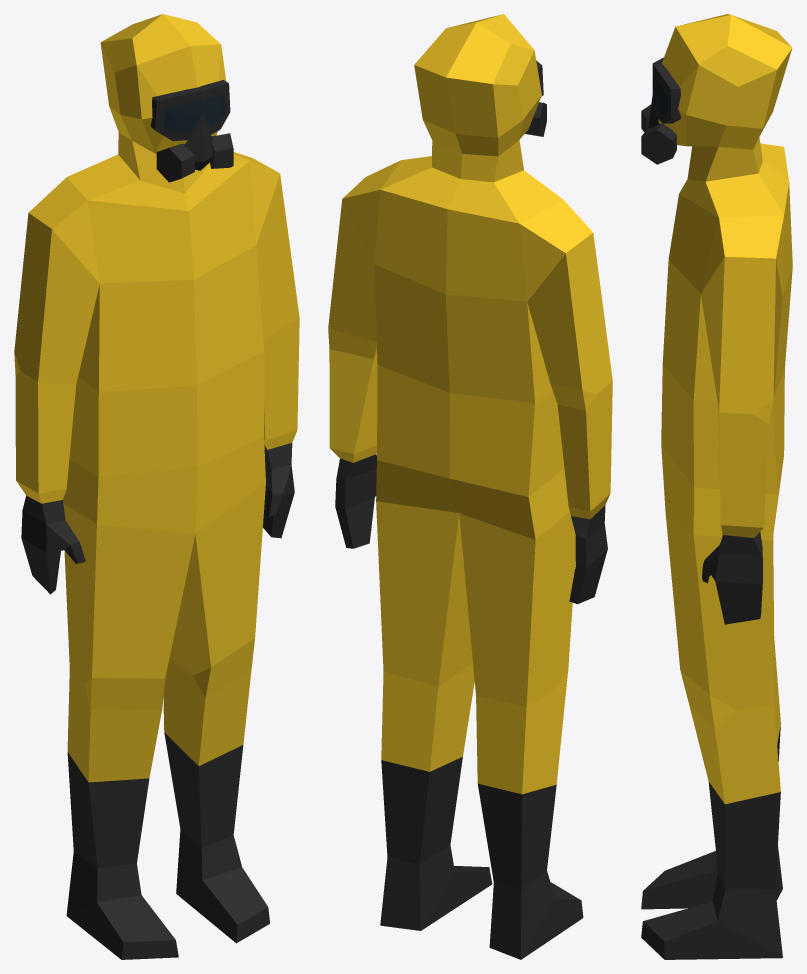
Rendered from man-hazard.glb.
3 renders of one model, left to right at view 1: azimuth 30°, elevation 25°; view 2: azimuth 150°, elevation 25°; view 3: azimuth 270°, elevation 25°, orthographic.
Visible parts, largest first — view 1: man-hazard; view 2: man-hazard; view 3: man-hazard.
Boxes of the visible parts, x1,y1,x2,y2 form: man-hazard: [14, 14, 299, 959]; man-hazard: [328, 14, 612, 959]; man-hazard: [641, 14, 792, 959].
Bounding box in the file's own units: 0.5505 × 1.81 × 0.2735.
Materials: 1 (1 with a texture image).
